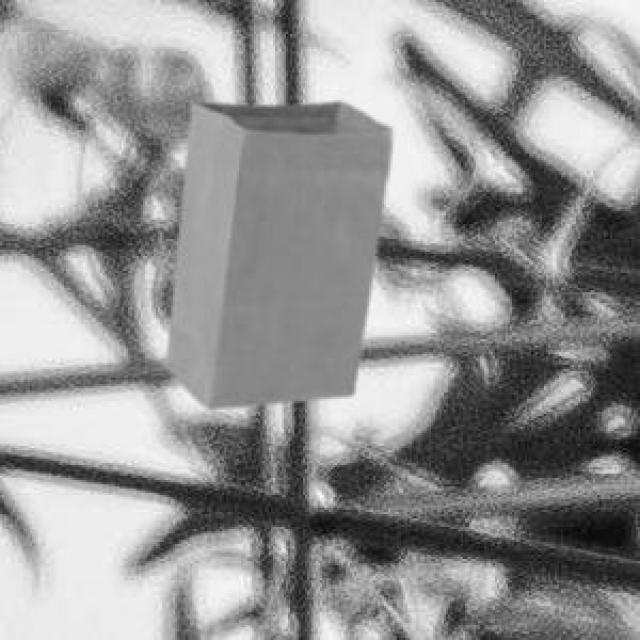paper: (162, 98, 386, 403)
